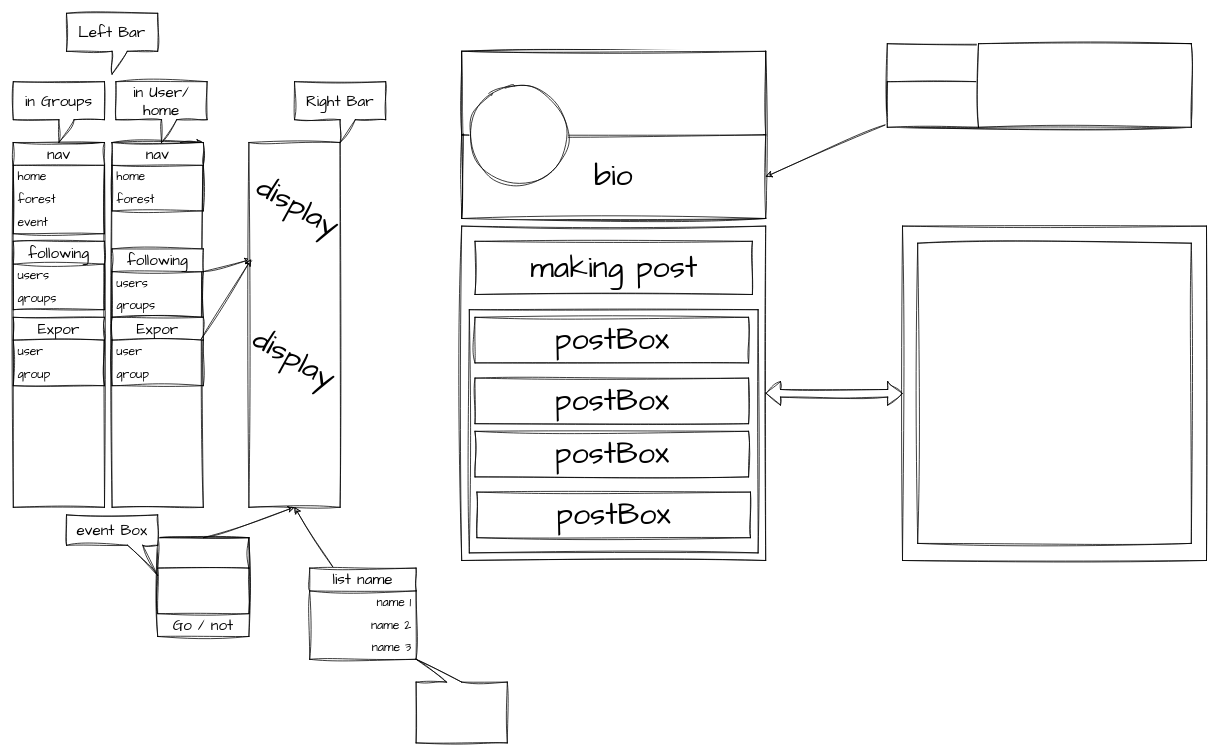
The diagram is 1220 pixels wide and 756 high, and some of its shapes have lost their labels. Here are the shapes that lost their labels. From the top down, the centre of each, then its label:
point 613,93: backgound
point 932,104: follower
point 1084,85: bio area
point 518,134: avatar
point 1054,392: Edit bio bio info avatar backGound (maybe) profile info name email fName / lName
point 203,552: title
point 203,590: content
point 461,701: user / group list
